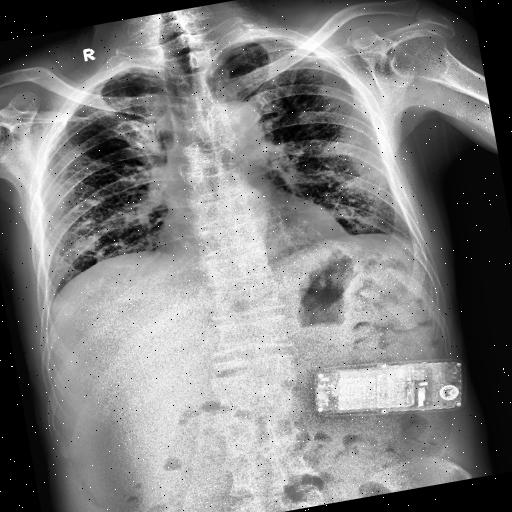0- Aortic enlargement: (200, 97, 269, 171), (208, 98, 264, 145), (214, 97, 264, 142)
11- Pleural thickening: (31, 76, 115, 140), (264, 24, 312, 54), (288, 32, 330, 66), (98, 63, 147, 81)
6- Infiltration: (65, 194, 107, 256)
9- Other lesion: (320, 166, 390, 196)
